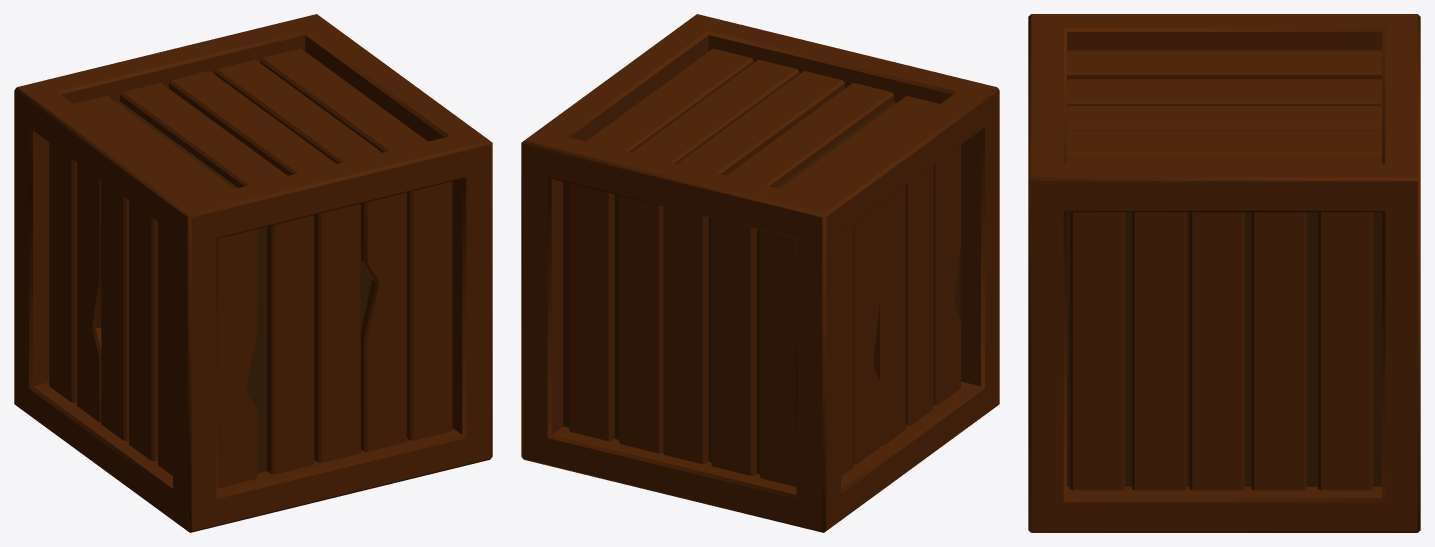
File: wooden box_01.obj
3 renders of one model, left to right at view 1: azimuth 30°, elevation 25°; view 2: azimuth 150°, elevation 25°; view 3: azimuth 270°, elevation 25°, orthographic. The views are drawn at different scales.
Parts seen in each view (by area): view 1: wooden_box_01_Куб.003; view 2: wooden_box_01_Куб.003; view 3: wooden_box_01_Куб.003.
Part boxes in pixels (<box>): wooden_box_01_Куб.003: <box>14,14,492,532</box>; wooden_box_01_Куб.003: <box>521,14,999,532</box>; wooden_box_01_Куб.003: <box>1028,14,1420,532</box>.
Size of the model in its own units: 1 by 1 by 1.
